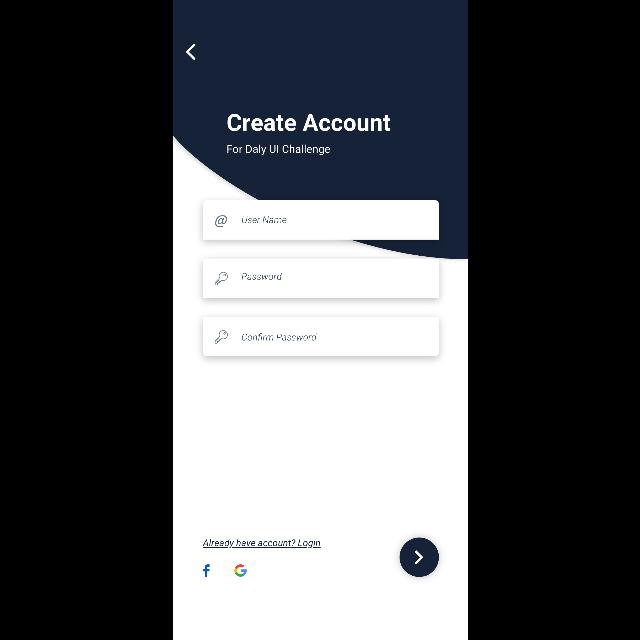icon: (399, 538, 438, 576), (215, 272, 228, 286), (185, 44, 195, 60), (214, 215, 226, 227), (234, 565, 246, 577), (202, 565, 210, 577)
image: (214, 331, 226, 344)
input: (202, 258, 438, 298), (202, 200, 438, 240), (202, 318, 438, 357)
text: (226, 114, 390, 132), (226, 144, 330, 156), (202, 540, 320, 548), (242, 334, 316, 341), (240, 216, 286, 224), (241, 272, 281, 280)
